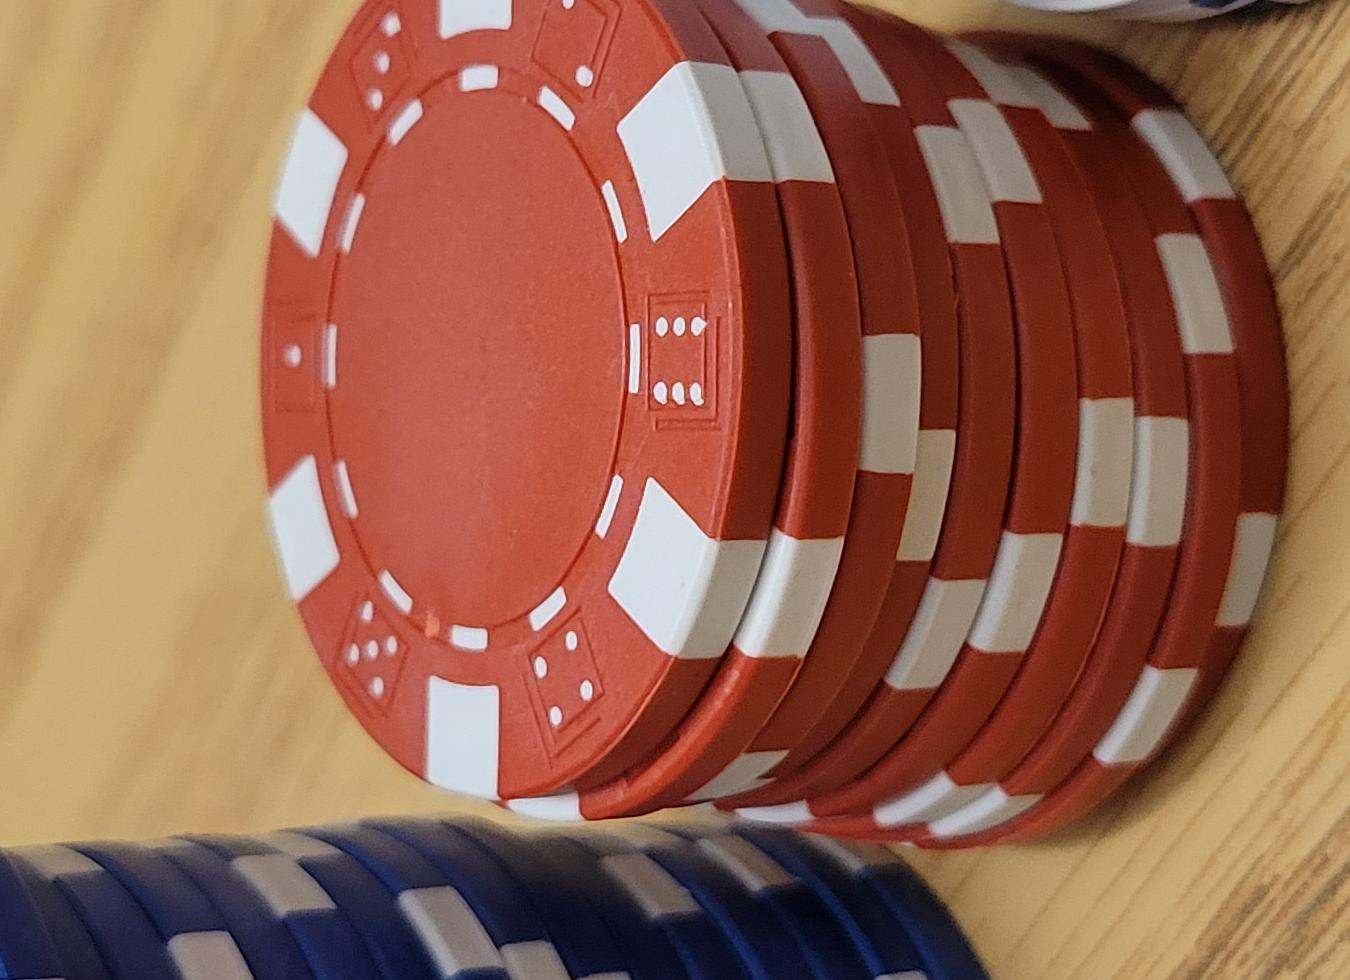Chip: (1, 376, 669, 980)
